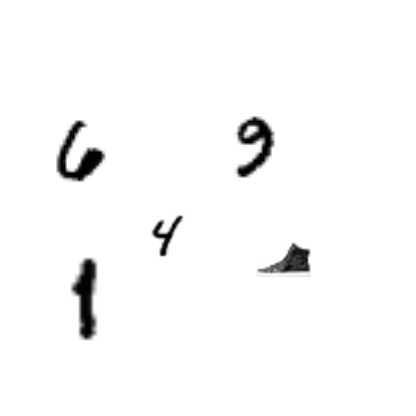1: (28, 239, 140, 351)
4: (136, 206, 192, 262)
6: (36, 115, 120, 199)
9: (211, 102, 295, 186)
Sneaker: (256, 231, 312, 287)
